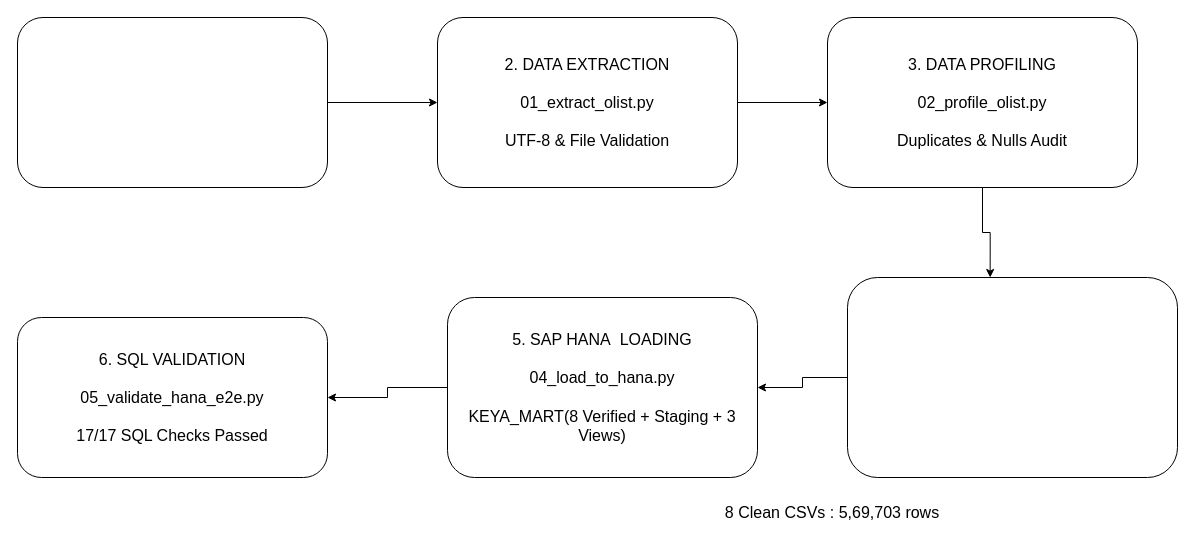
This 1195x545 diagram has some shape labels left out. Each missing label, with the box of its shape:
1. DATA SOURCE Olist Brazilian Dataset 9 Raw CSVs - 1,550,922 rows: (16, 16, 328, 188)
4. TRANSFORMATION 03_transform_olist.py clean,Translate,Integrate: (846, 276, 1178, 478)
